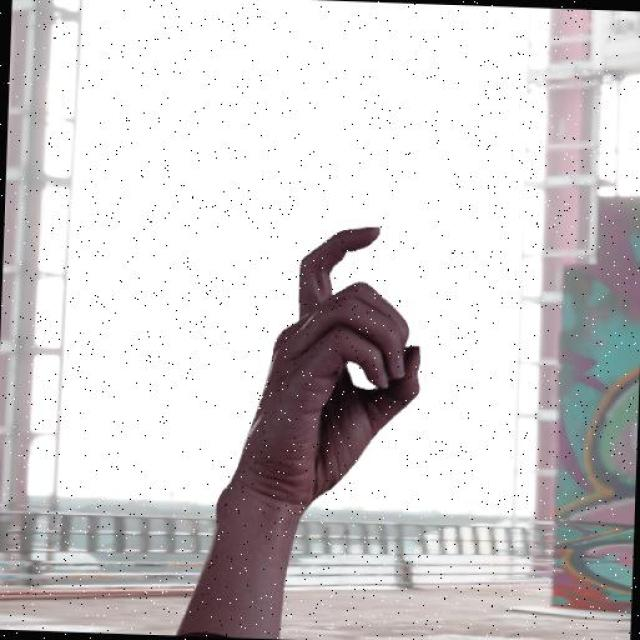X: (212, 215, 430, 520)
